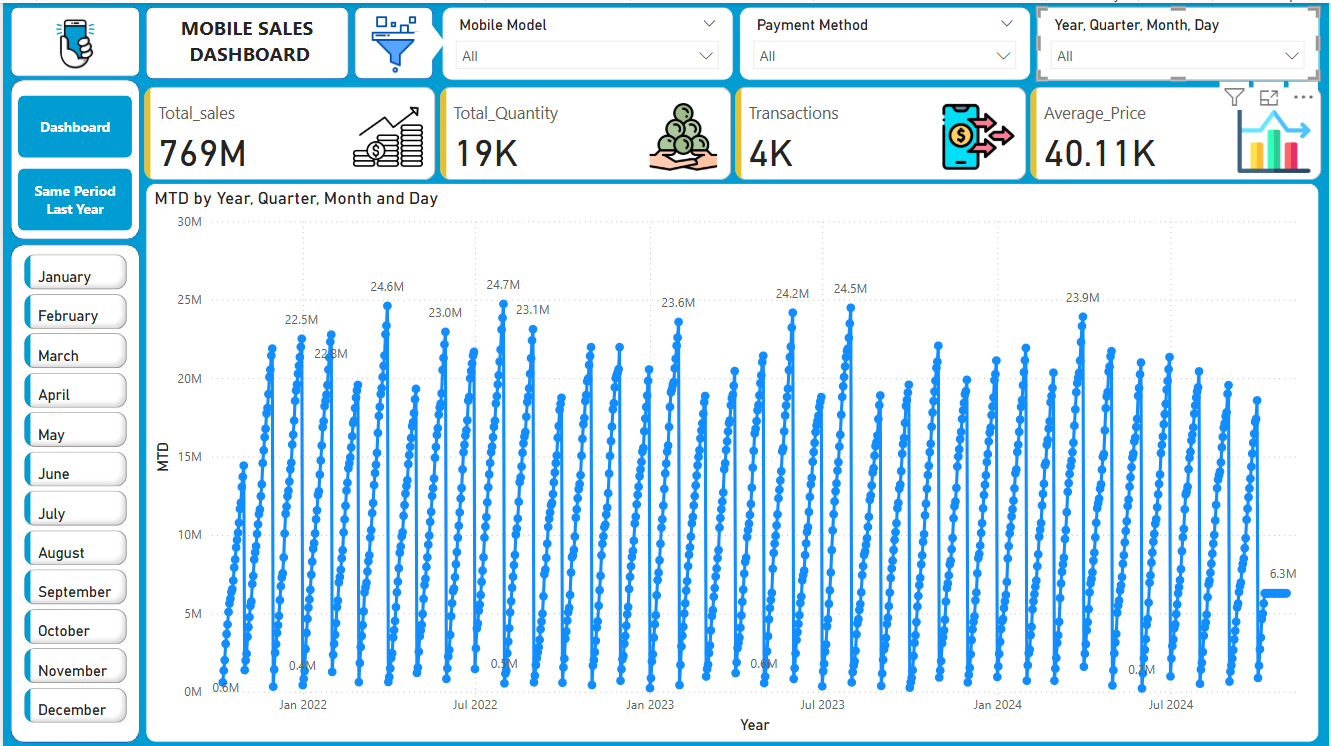

This screenshot's page, from the dashboard's own definition file:
{"tool":"powerbi","page":{"name":"MTD Dashboard","canvas":[1280,720],"ordinal":1},"visuals":[{"type":"shape","box":[7.5,3.8,125,67.5],"z":0},{"type":"image","box":[30.2,4.1,79.6,71.4],"z":1000},{"type":"shape","box":[7.5,73.8,125,155],"z":2000},{"type":"shape","box":[7.5,232.5,125,481.2],"z":3000},{"type":"cardVisual","fields":{"Data":["Mobile_Sales_Data.Total_sales","Mobile_Sales_Data.Total_Quantity","Mobile_Sales_Data.Transactions","Mobile_Sales_Data.Average_Price"]},"box":[131.7,75.5,1147.2,100.2],"z":4000},{"type":"advancedSlicerVisual","fields":{"Values":["Custom_Calender.Date.Variation.Date Hierarchy.Month"]},"box":[15.1,237.4,109.8,472],"z":5000},{"type":"slicer","fields":{"Values":["Mobile_Sales_Data.Payment Method"]},"box":[710,3.8,281.2,71.2],"z":6000},{"type":"slicer","fields":{"Values":["Mobile_Sales_Data.Mobile Model"]},"box":[423.8,3.8,281.2,71.2],"z":7000},{"type":"slicer","fields":{"Values":["Custom_Calender.Date.Variation.Date Hierarchy.Year","Custom_Calender.Date.Variation.Date Hierarchy.Quarter","Custom_Calender.Date.Variation.Date Hierarchy.Month","Custom_Calender.Date.Variation.Date Hierarchy.Day"]},"box":[997.5,3.8,272.5,71.2],"z":8000},{"type":"shape","box":[338.8,3.8,76.2,70],"z":9000},{"type":"image","box":[337.6,6.9,81,65.9],"z":10000},{"type":"shape","box":[397.5,17.5,30,40],"z":11000},{"type":"shape","box":[137.5,3.8,196.2,70],"z":12000},{"type":"textbox","box":[156.2,6.2,162.5,63.8],"z":13000},{"type":"pageNavigator","box":[15,88.8,110,130],"z":14000},{"type":"lineChart","fields":{"Y":["Mobile_Sales_Data.MTD"],"Category":["Custom_Calender.Date.Variation.Date Hierarchy.Year","Custom_Calender.Date.Variation.Date Hierarchy.Quarter","Custom_Calender.Date.Variation.Date Hierarchy.Month","Custom_Calender.Date.Variation.Date Hierarchy.Day"]},"box":[137.5,173.8,1132.5,540],"z":15000}]}

Visuals, with their boxes in screenshot pixels (x1, y1, x2, y2), scaled from the page's 1280x720 canvas onto the 1331x746 screenshot:
shape: 8 4 138 74
image: 31 4 114 78
shape: 8 76 138 237
shape: 8 241 138 739
cardVisual - Mobile_Sales_Data.Total_sales x Mobile_Sales_Data.Total_Quantity: 137 78 1330 182
advancedSlicerVisual - Custom_Calender.Date.Variation.Date Hierarchy.Month: 16 246 130 735
slicer - Mobile_Sales_Data.Payment Method: 738 4 1031 78
slicer - Mobile_Sales_Data.Mobile Model: 441 4 733 78
slicer - Custom_Calender.Date.Variation.Date Hierarchy.Year x Custom_Calender.Date.Variation.Date Hierarchy.Quarter: 1037 4 1321 78
shape: 352 4 432 76
image: 351 7 435 75
shape: 413 18 445 60
shape: 143 4 347 76
textbox: 162 6 331 73
pageNavigator: 16 92 130 227
lineChart - Mobile_Sales_Data.MTD x Custom_Calender.Date.Variation.Date Hierarchy.Year: 143 180 1321 740
